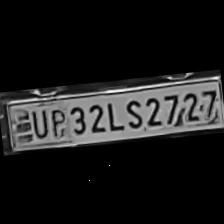2: (179, 88, 201, 124), (84, 100, 106, 134), (142, 92, 162, 128)
3: (66, 101, 86, 135)
7: (160, 90, 182, 126), (198, 86, 219, 120)
L: (102, 97, 122, 131)
P: (46, 103, 66, 137)
S: (122, 94, 144, 130)
U: (30, 105, 50, 138)
